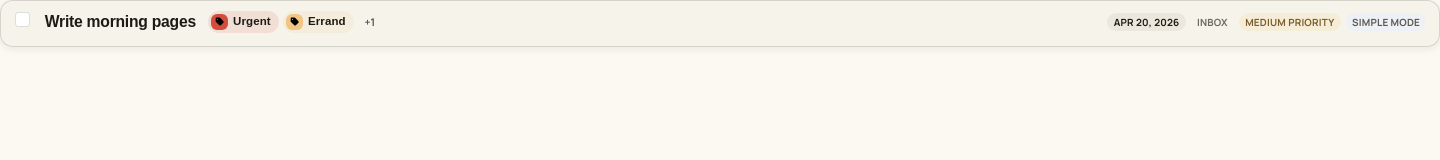
Test: PersonalTaskCardComponent › Label chips › toggles a popover that lists every label name
Step 1. Click the button with class "task-label-overflow" → click(370, 22), box [358, 10, 382, 34]
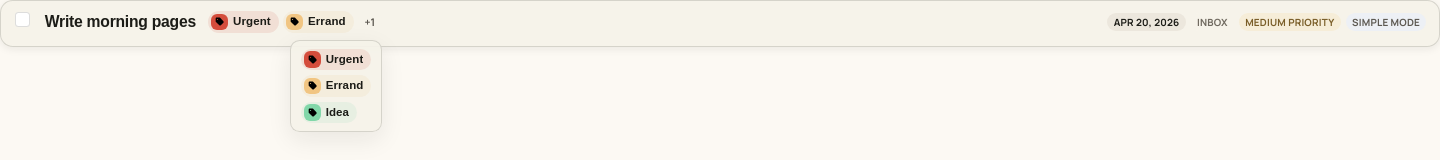
Expected: the element with class "task-label-overflow-menu" is shown, [290, 40, 382, 132]
